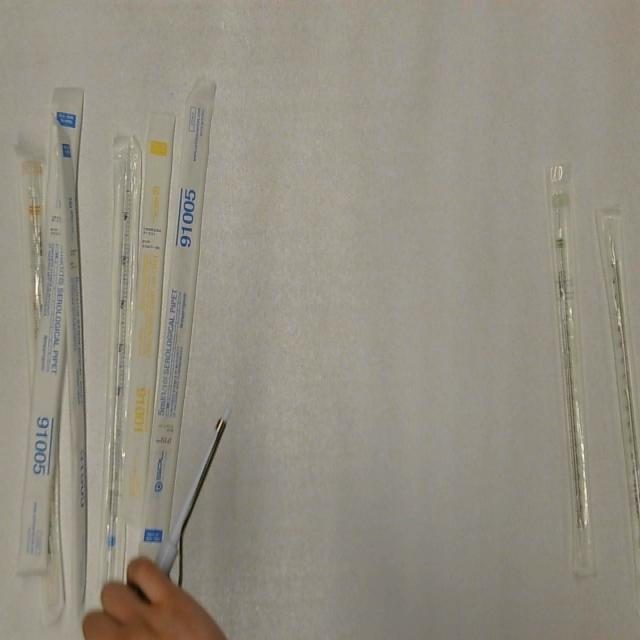Serelogical Pipet 1 mL - Sealed: (117, 106, 179, 531)
Serelogical Pipet 10 mL - Sealed: (18, 140, 58, 391)
Serelogical Pipet 2 mL - Sealed: (543, 154, 601, 582)
Serelogical Pipet 5 mL - Sealed: (136, 73, 220, 567), (13, 78, 88, 579), (97, 132, 144, 595), (51, 114, 89, 615)
Single Channel Pipettor: (120, 402, 234, 623)
